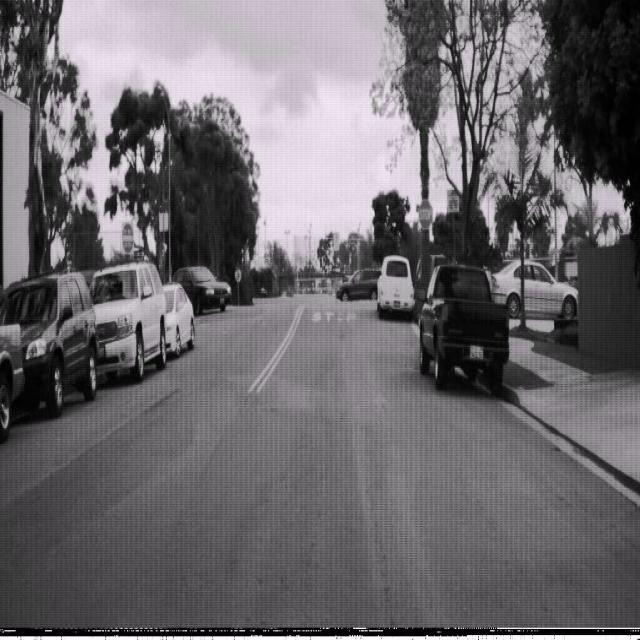stop_sign: (418, 198, 433, 230)
